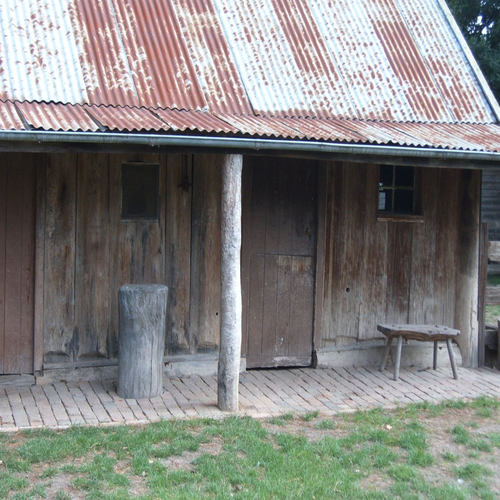Tin-shade House: (18, 2, 487, 367)
